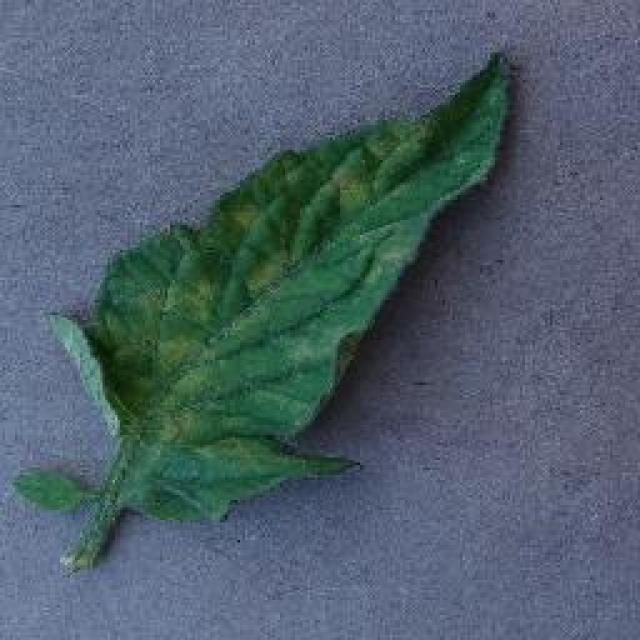Tomato mold leaf: (57, 48, 507, 525)
